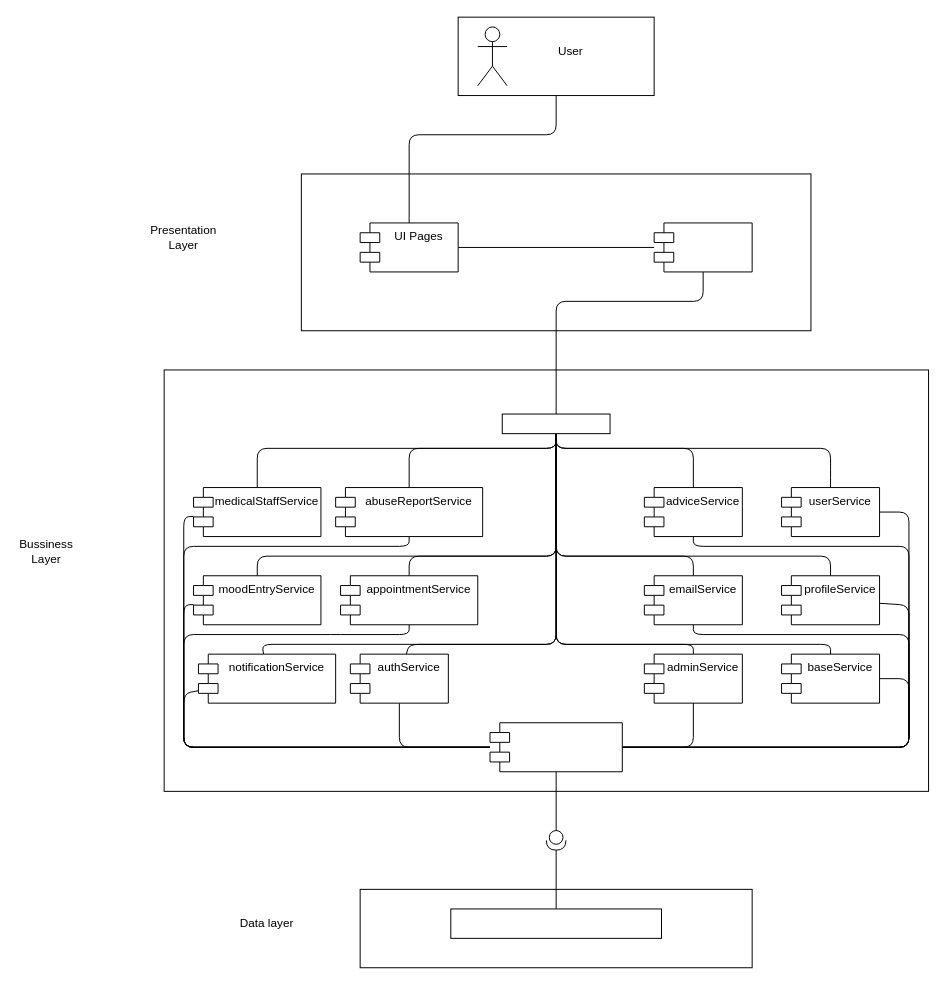
The diagram is 946 pixels wide and 985 high, and some of its shapes have lost their labels. The shapes that lost their labels are listed below. From the top down, each one's centre as x and y in pixels, then its label:
At (x=702, y=247): "UI Services".
At (x=555, y=423): "API endpoints".
At (x=555, y=747): "databaseService".
At (x=556, y=923): "Database".
